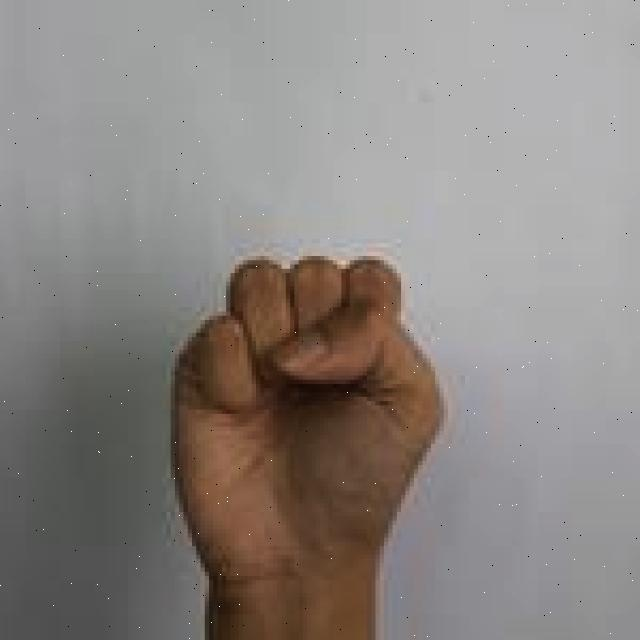S: (172, 244, 452, 640)
